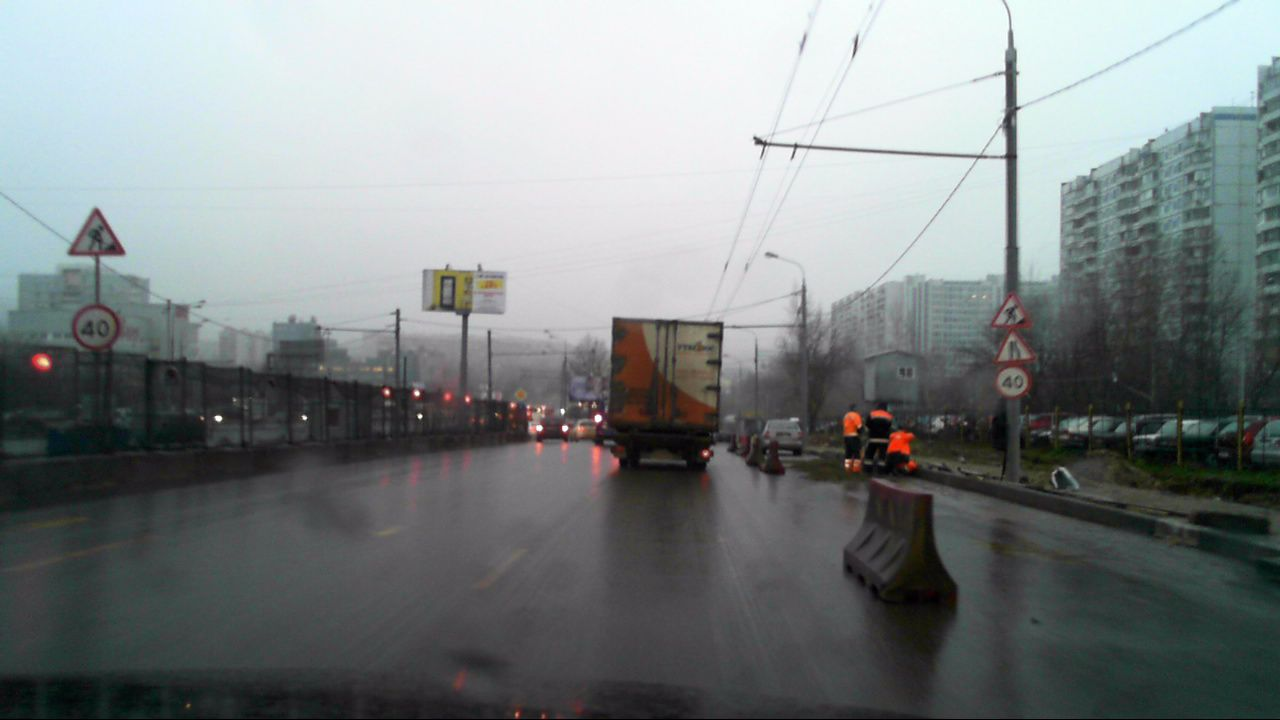speed_warning_40: (996, 367, 1028, 396)
